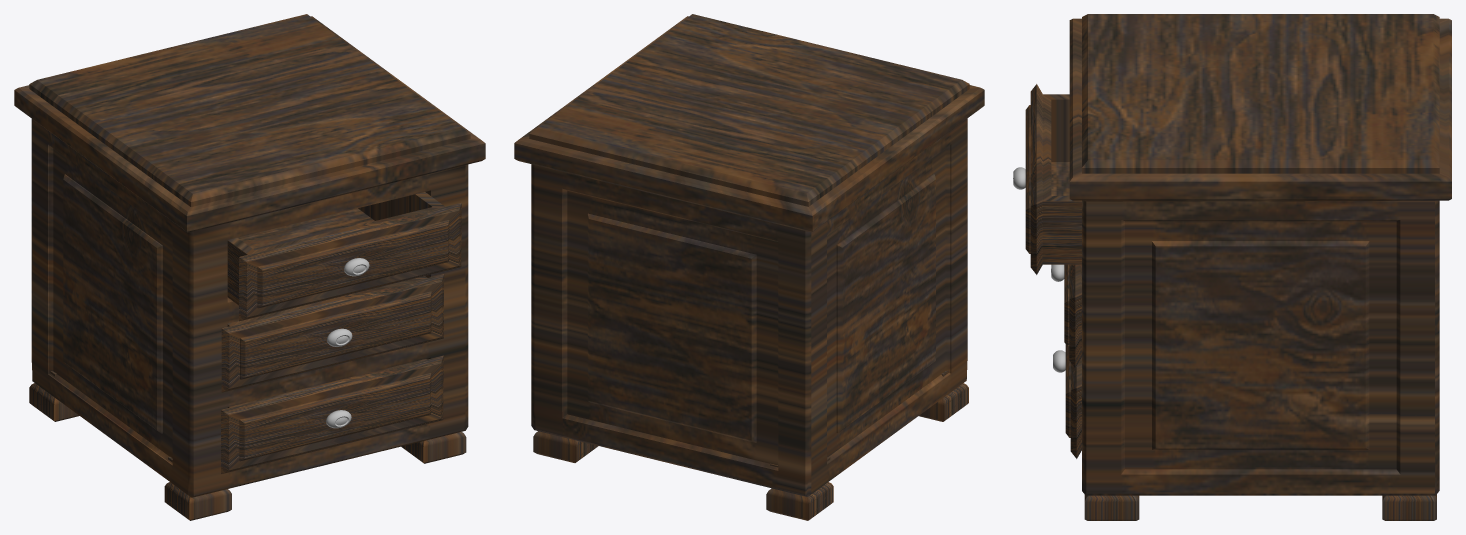
The model's file is nightstand.fbx.
The picture shows the model from 3 angles, left to right: view 1: azimuth 30°, elevation 25°; view 2: azimuth 150°, elevation 25°; view 3: azimuth 270°, elevation 25°; orthographic projection. The views are drawn at different scales.
Parts seen in each view (by area): view 1: pCube1, pasted__pCube2 (×2), pCube2, pasted__pasted__pCube3, pasted__pCube3, pasted__pasted__pasted__pCube3; view 2: pCube1, pasted__pasted__pCube3 (×2), pasted__pasted__pasted__pCube3; view 3: pCube1, pCube2, pasted__pCube2 (×2), pasted__pCube3, pasted__pasted__pCube3.
Boxes of the visible parts, <box> form: pCube1: <box>14,14,485,497</box>; pasted__pCube2 (×2): <box>221,274,444,473</box>; pCube2: <box>227,192,461,321</box>; pasted__pasted__pCube3: <box>164,457,231,520</box>; pasted__pCube3: <box>401,432,466,463</box>; pasted__pasted__pasted__pCube3: <box>29,371,79,421</box>; pCube1: <box>514,14,984,496</box>; pasted__pasted__pCube3 (×2): <box>533,370,968,462</box>; pasted__pasted__pasted__pCube3: <box>766,457,833,520</box>; pCube1: <box>1069,14,1451,495</box>; pCube2: <box>1025,84,1081,274</box>; pasted__pCube2 (×2): <box>1064,264,1081,458</box>; pasted__pCube3: <box>1084,495,1139,520</box>; pasted__pasted__pCube3: <box>1382,494,1436,520</box>.
Bounding box in the file's own units: 7.8 × 8.14 × 8.96.
